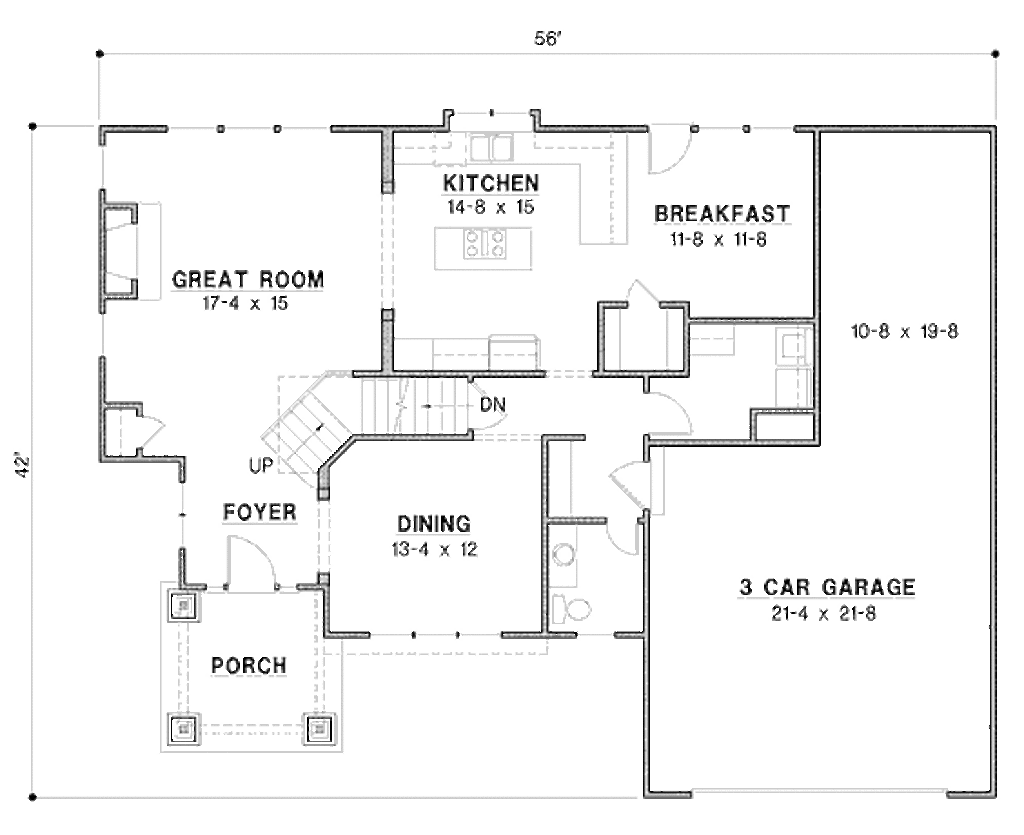door: (224, 531, 287, 596), (610, 452, 672, 513), (645, 125, 696, 179), (647, 391, 696, 440), (605, 516, 651, 560), (142, 411, 173, 456)
kitchen_bar: (435, 225, 548, 275)
large_sink: (546, 589, 603, 636)
small_sink: (543, 526, 583, 584)
stairs: (255, 363, 473, 488)
twin_sink: (461, 127, 524, 169)
